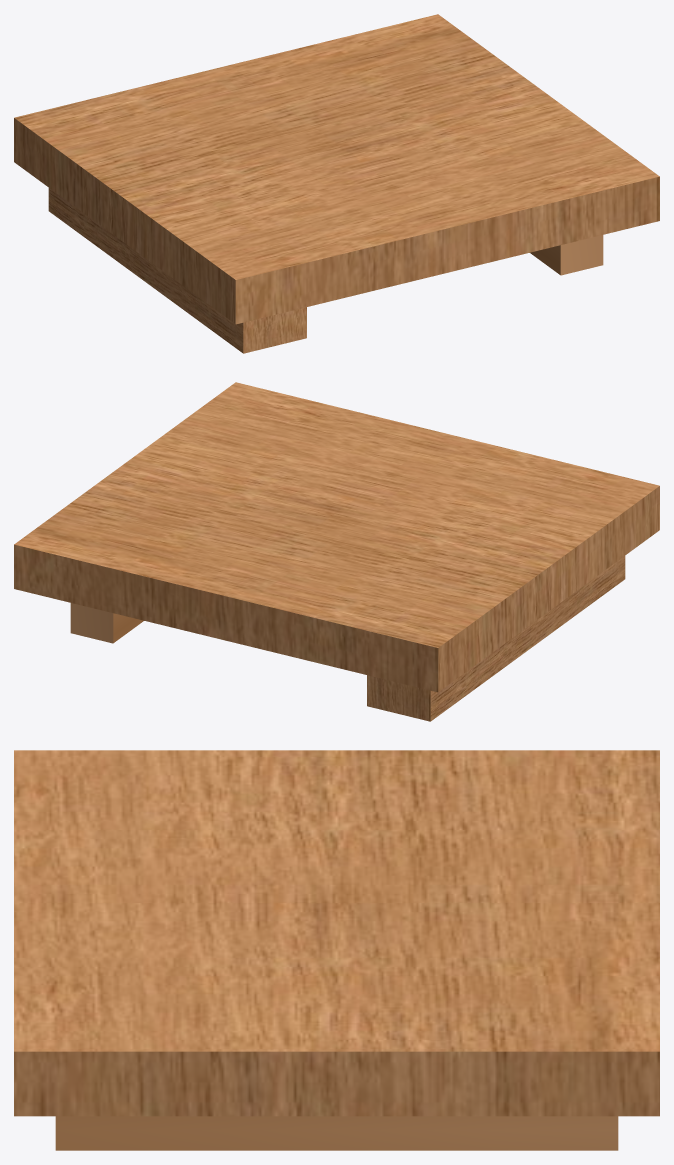
The model's file is tabla 1.obj.
3 views of the same model, one above another, from view 1: azimuth 30°, elevation 25°; view 2: azimuth 150°, elevation 25°; view 3: azimuth 270°, elevation 25° (orthographic). The views are drawn at different scales.
Bounding box in the file's own units: 2 × 0.4 × 1.81.
Materials: 1 (1 with a texture image).
